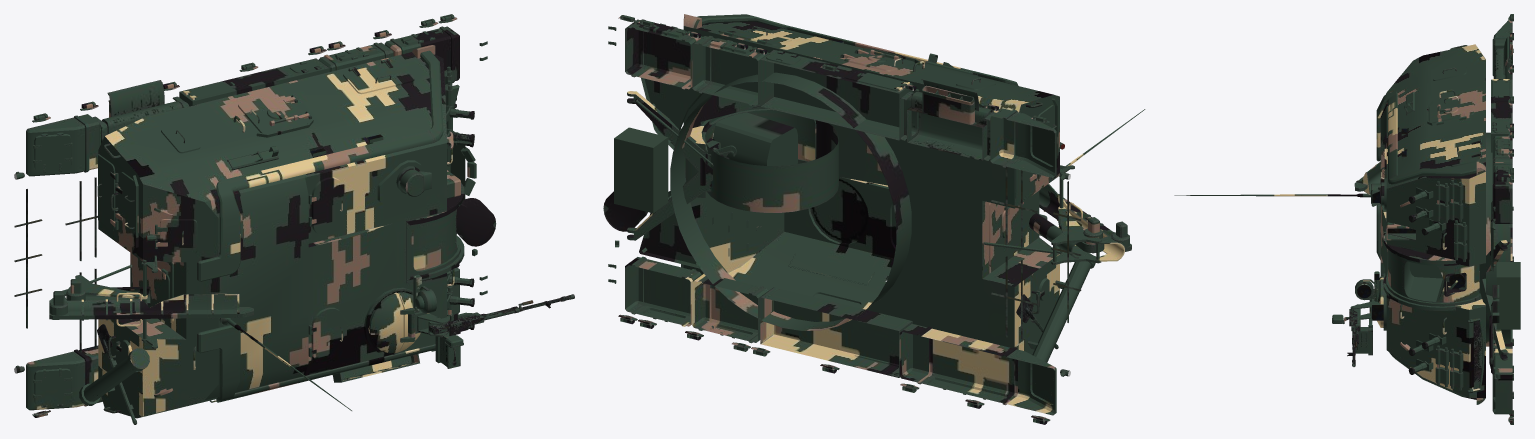
The model's file is turret.gltf.
The picture shows the model from 3 angles, left to right: view 1: azimuth 30°, elevation 25°; view 2: azimuth 150°, elevation 25°; view 3: azimuth 270°, elevation 25°; orthographic projection. The views are drawn at different scales.
Visible parts, largest first — view 1: turret; view 2: turret; view 3: turret.
Boxes of the visible parts, x1,y1,x2,y2 form: turret: (14,14,574,424); turret: (603,14,1145,424); turret: (1174,14,1520,424).
Bounding box in the file's own units: 5.65 × 3.45 × 4.31.
Materials: 4 (2 with a texture image).
